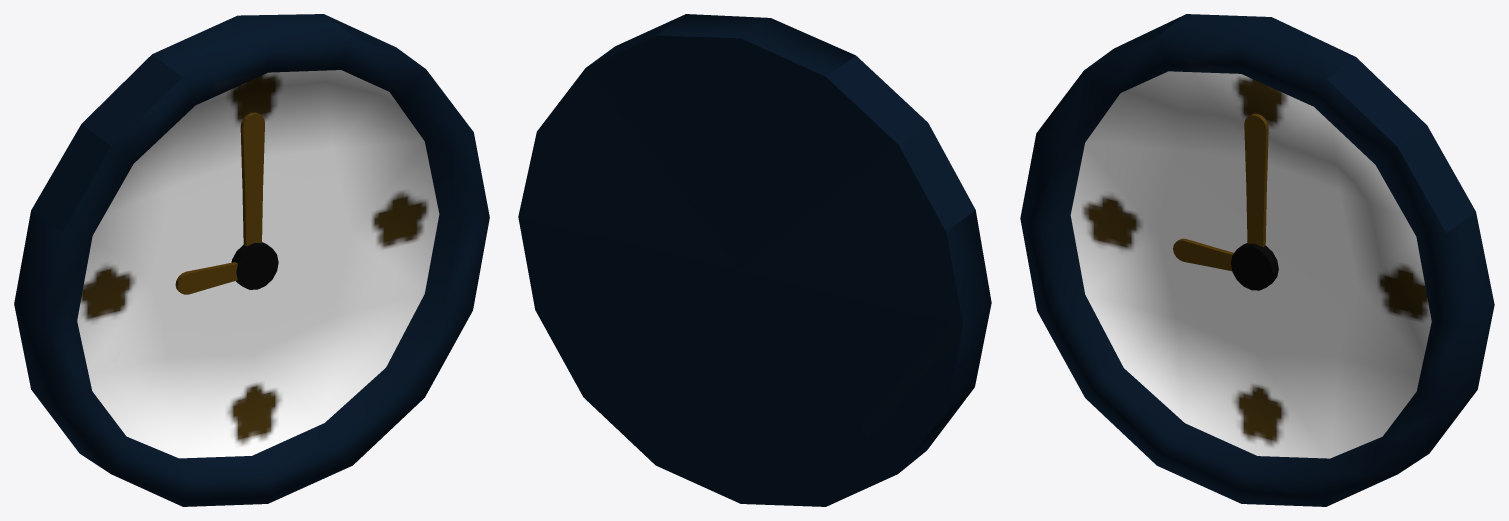
File: KHIP_Clock.FBX
The picture shows the model from 3 angles, left to right: view 1: azimuth 30°, elevation 25°; view 2: azimuth 150°, elevation 25°; view 3: azimuth 330°, elevation 25°; orthographic projection.
Visible parts, largest first — view 1: KHIP_Clock, KHIP_Minute_Hand, KHIP_Clock_Nose, KHIP_Hour_Hand; view 2: KHIP_Clock_Back, KHIP_Clock; view 3: KHIP_Clock, KHIP_Minute_Hand, KHIP_Clock_Nose, KHIP_Hour_Hand.
Part boxes in pixels (box(x1,y1,x2,y2)): KHIP_Clock: box(14, 14, 489, 506); KHIP_Minute_Hand: box(240, 112, 264, 246); KHIP_Clock_Nose: box(231, 242, 278, 289); KHIP_Hour_Hand: box(175, 262, 237, 294); KHIP_Clock_Back: box(518, 35, 963, 506); KHIP_Clock: box(586, 14, 991, 473); KHIP_Clock: box(1020, 14, 1494, 506); KHIP_Minute_Hand: box(1244, 113, 1268, 246); KHIP_Clock_Nose: box(1231, 243, 1278, 290); KHIP_Hour_Hand: box(1173, 238, 1233, 271).
Size of the model in its own units: 21.17 by 21.17 by 2.55.
